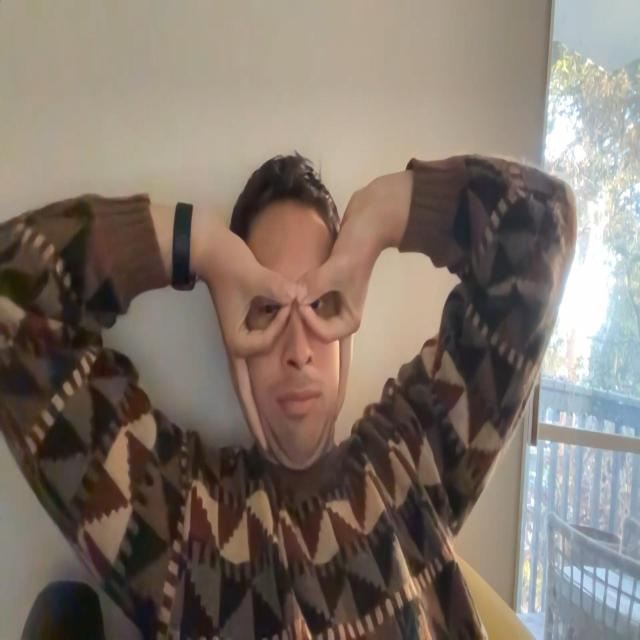face: (244, 219, 340, 471)
